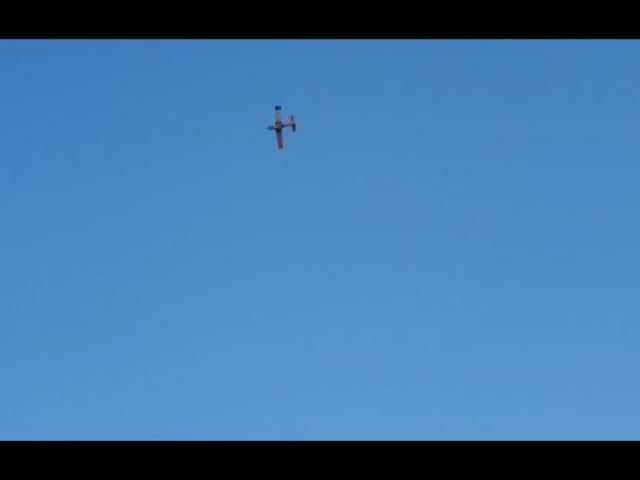uav: (264, 102, 299, 151)
